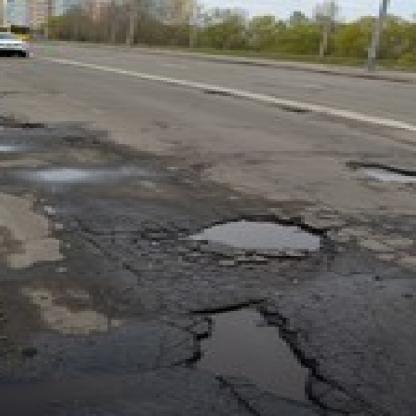pothole: (178, 300, 327, 409), (186, 217, 331, 254), (350, 160, 416, 187), (0, 121, 41, 130), (279, 105, 309, 114), (205, 89, 231, 96)
